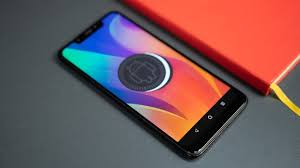vsmart: (57, 8, 252, 167)
